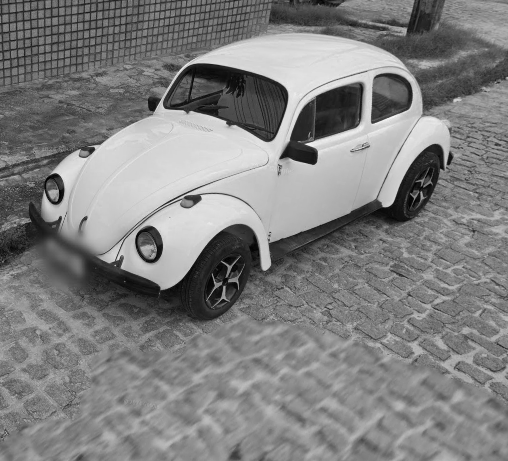car: (28, 31, 455, 323)
